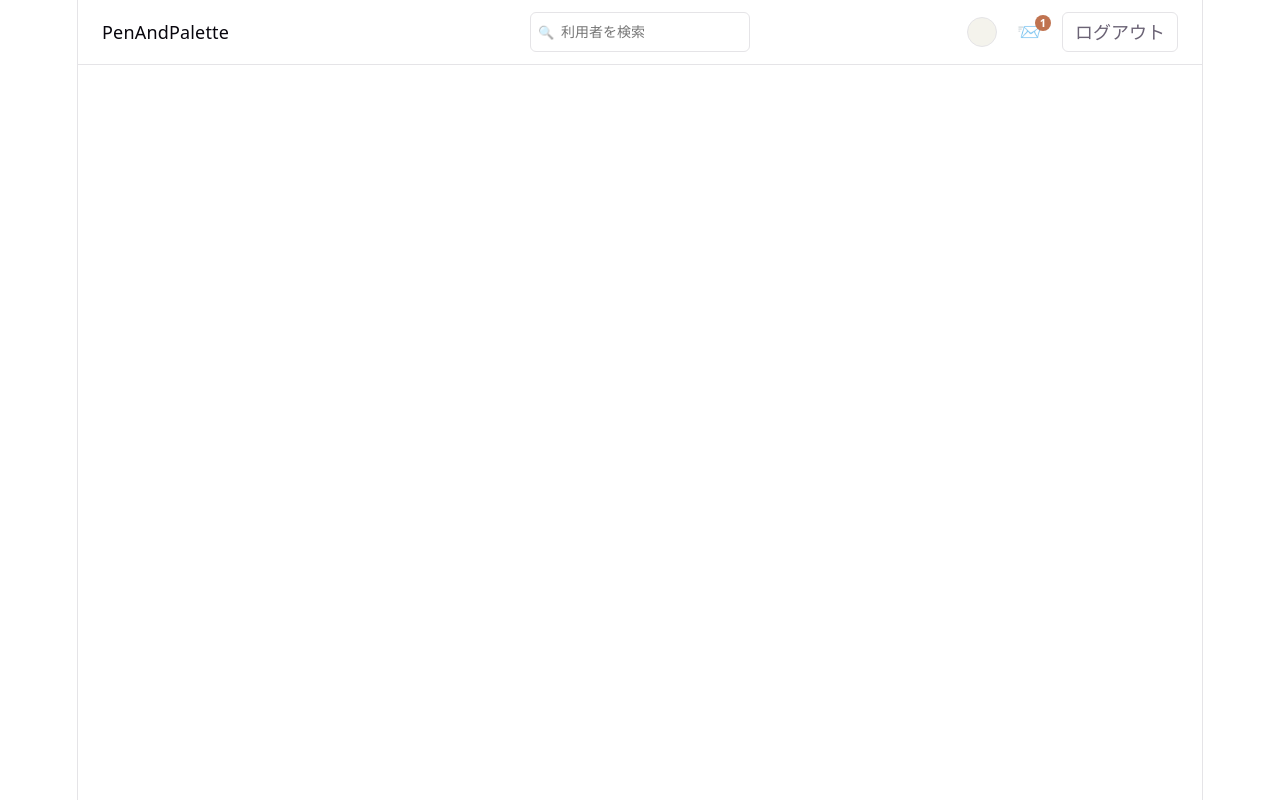
Test: AppHeader › 通知バッジをクリックすると届いたリクエストの一覧がドロップダウンで表示される
Click the button with test id "header-request-badge" at {"x": 1030, "y": 32}, box left=1013, top=18, right=1046, bottom=46
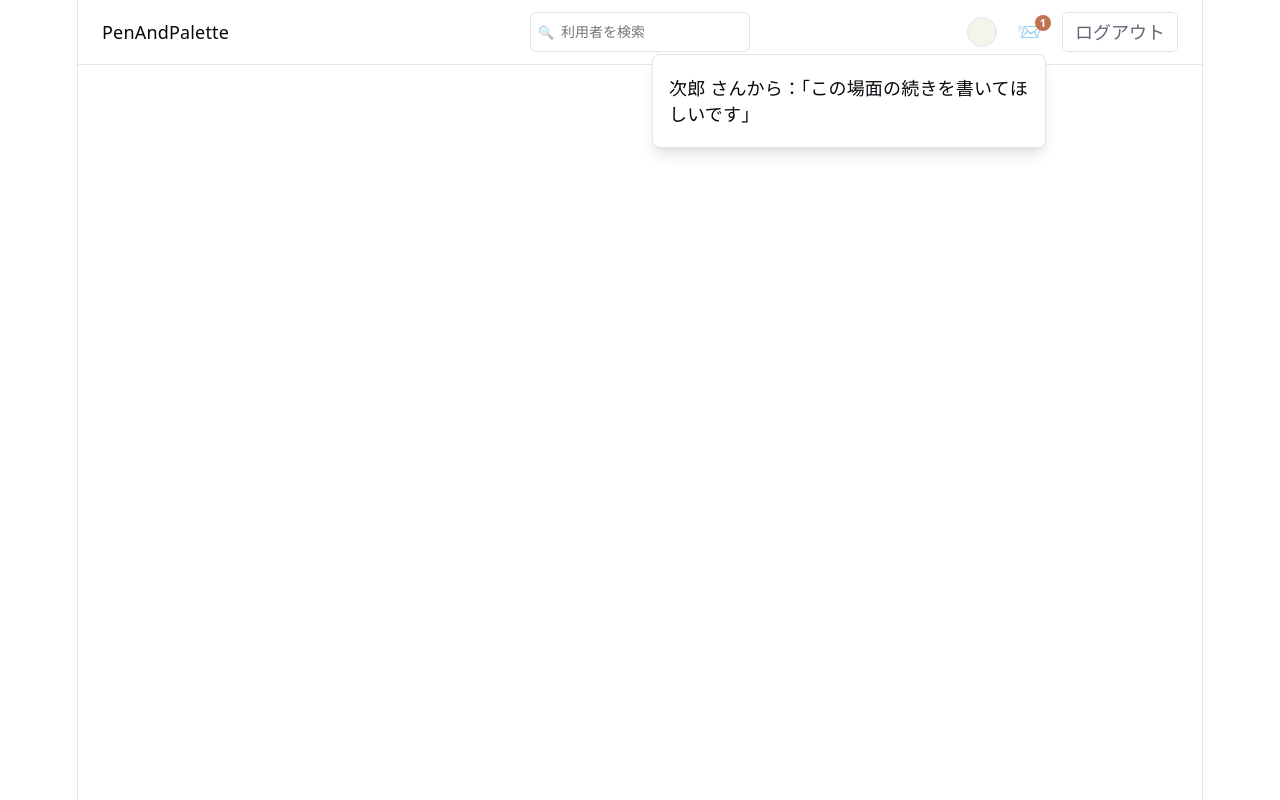
Now the text with test id "header-received-request-1" reads "次郎 さんから：「この場面の続きを書いてほしいです」", box left=669, top=76, right=1028, bottom=126
Click the button with test id "header-request-badge" at {"x": 1030, "y": 32}, box left=1013, top=18, right=1046, bottom=46
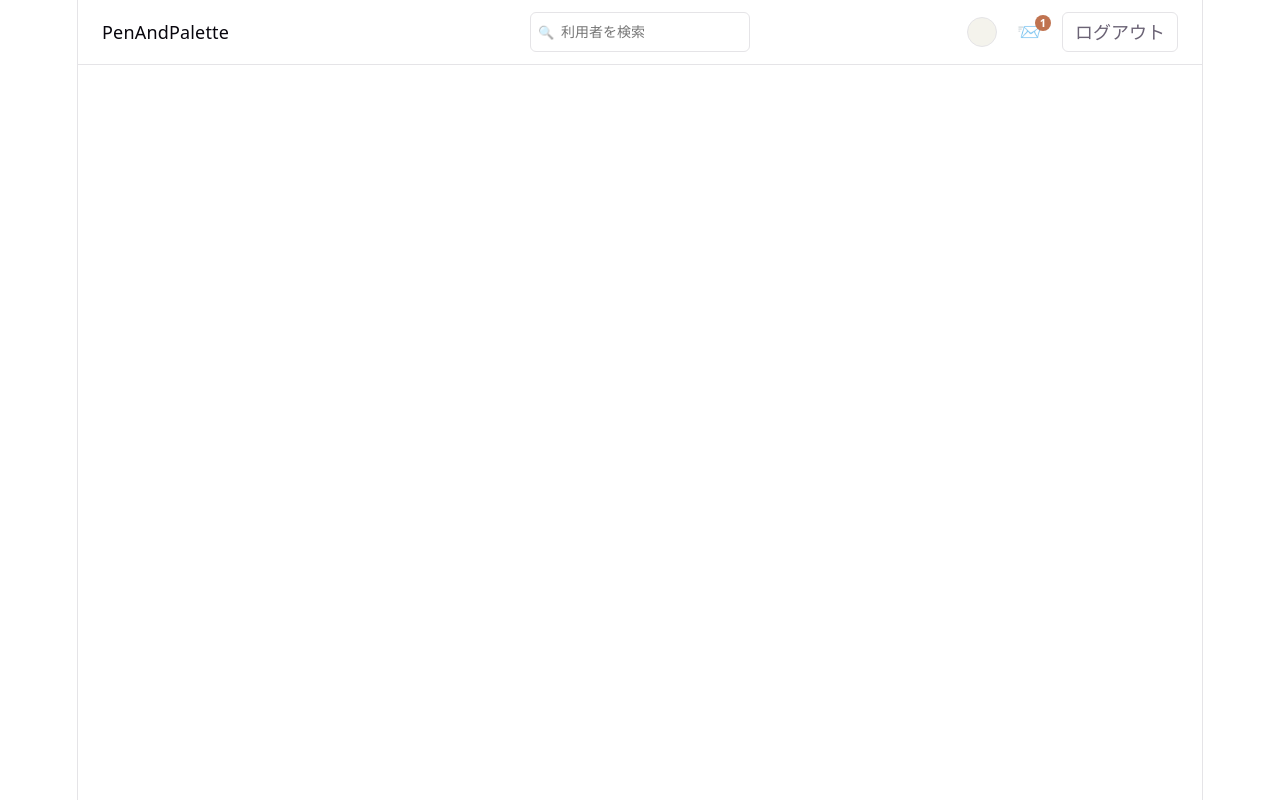
Now the element with test id "header-request-dropdown" is gone
